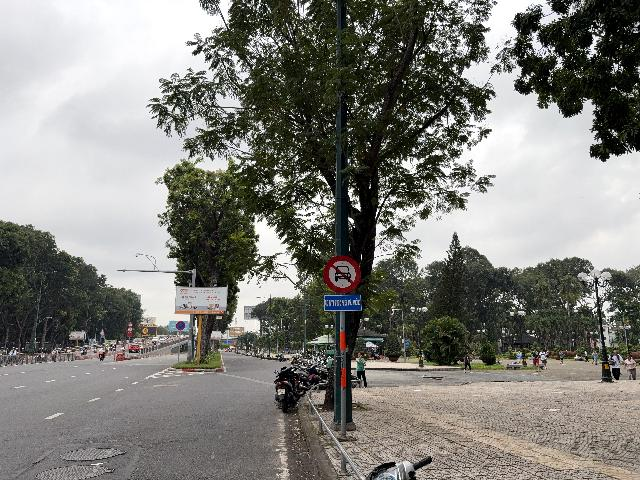cam-o-to: (323, 255, 361, 293)
